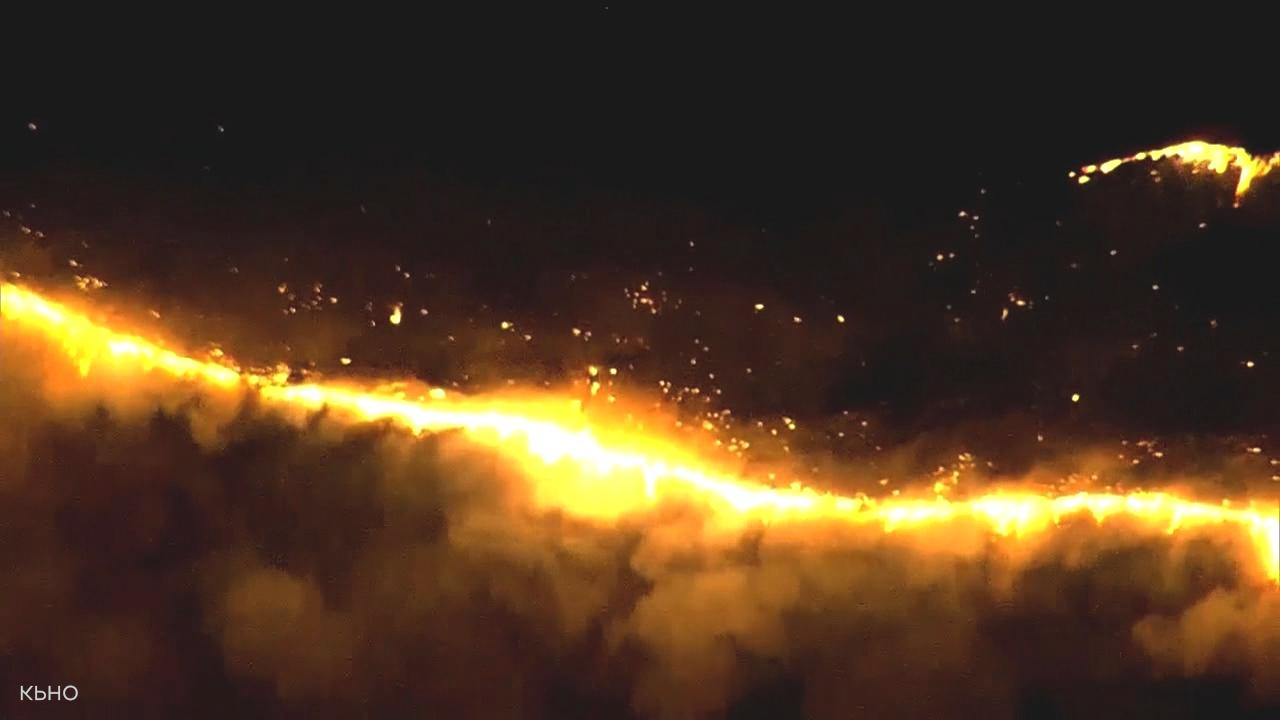fire: (505, 468, 1279, 534), (7, 279, 224, 419), (226, 367, 500, 463)
